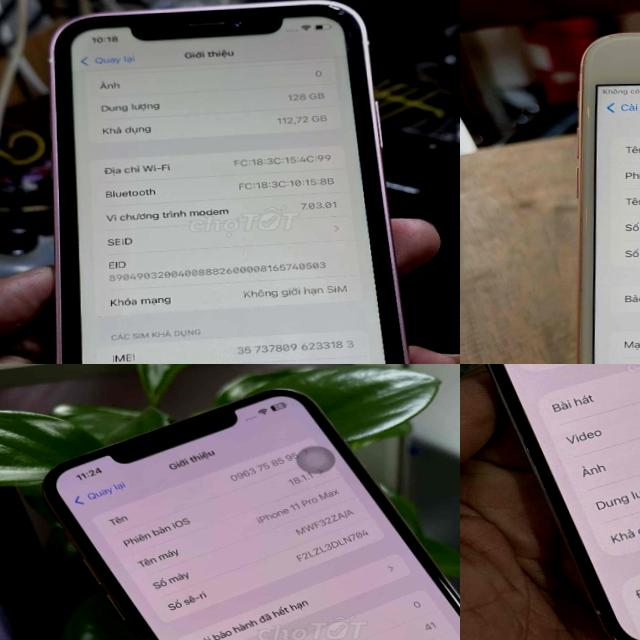scratch: (322, 0, 360, 29), (586, 28, 618, 42), (581, 100, 591, 120)
